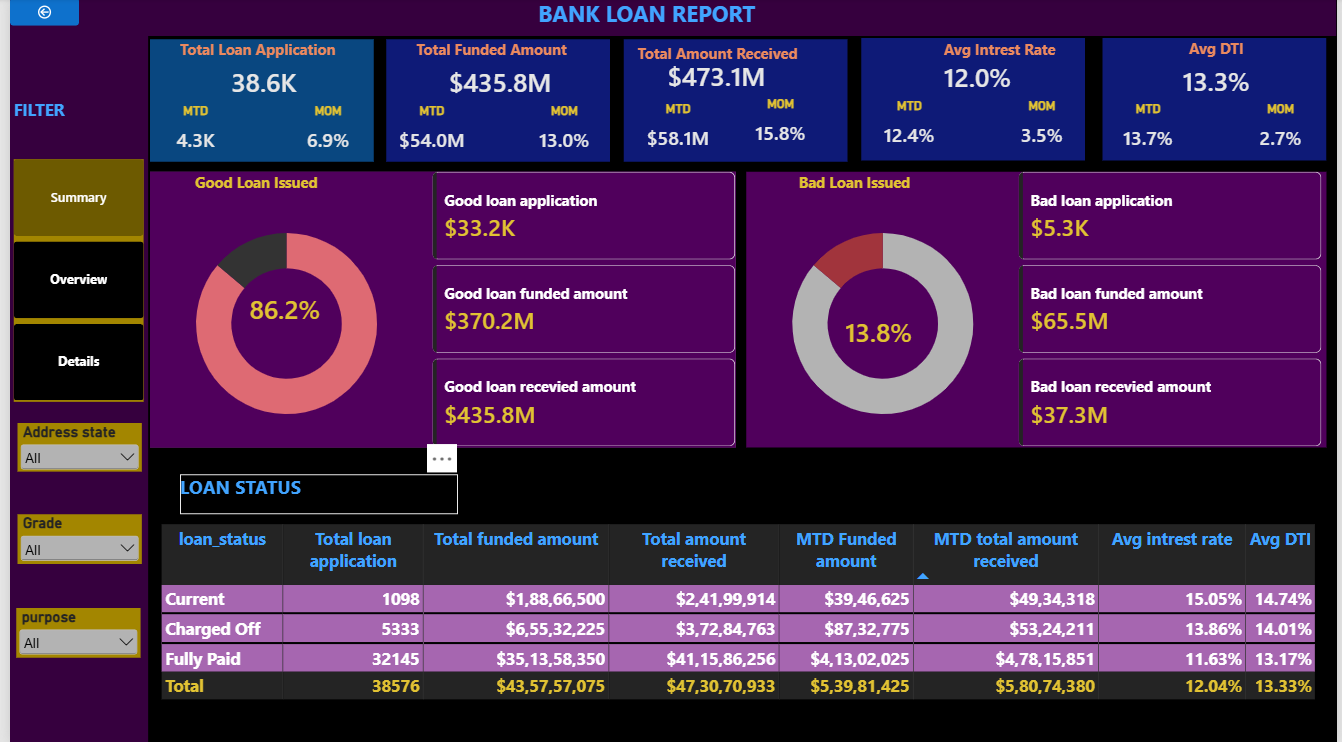

The dashboard page shown, as its layout file describes it:
{"tool":"powerbi","page":{"name":"Summary","canvas":[1920,1080],"ordinal":0},"visuals":[{"type":"shape","box":[1232,58.1,323.9,177.3],"z":0,"group":"g4"},{"type":"shape","box":[1581.3,58.1,323.9,177.3],"z":0,"group":"g5"},{"type":"shape","box":[202.7,59.7,323.9,177.3],"z":0,"group":"g1"},{"type":"shape","box":[544.7,59.7,323.9,177.3],"z":0,"group":"g2"},{"type":"shape","box":[888.5,60.1,323.9,177.3],"z":0,"group":"g3"},{"type":"shape","box":[202.4,251.6,847.6,399.2],"z":0},{"type":"card","fields":{"Values":["public financial_loan.Total amount received"]},"box":[900.7,81.6,242.5,63.3],"z":1000,"group":"g3"},{"type":"card","fields":{"Values":["public financial_loan.Avg intrest rate"]},"box":[1279.9,83.7,242.5,63.3],"z":1000,"group":"g4"},{"type":"card","fields":{"Values":["public financial_loan.Avg DTI"]},"box":[1624.7,88.9,242.5,63.3],"z":1000,"group":"g5"},{"type":"card","fields":{"Values":["public financial_loan.Total loan application"]},"box":[246.1,90.5,242.5,63.3],"z":1000,"group":"g1"},{"type":"card","fields":{"Values":["public financial_loan.Total funded amount"]},"box":[588.1,90.5,242.5,63.3],"z":1000,"group":"g2"},{"type":"card","fields":{"Values":["public financial_loan.Good loan %"]},"box":[319.7,420,155.1,62.4],"z":1000},{"type":"shape","box":[0,0,1920.1,55],"z":2000},{"type":"textbox","box":[1624.7,58.1,242.5,30.8],"z":2000,"group":"g5"},{"type":"textbox","box":[246.1,59.7,242.5,30.8],"z":2000,"group":"g1"},{"type":"textbox","box":[588.1,59.7,242.5,30.8],"z":2000,"group":"g2"},{"type":"textbox","box":[908.8,65.9,251.9,29.1],"z":2000,"group":"g3"},{"type":"shape","box":[0,54.3,200,1026],"z":3000},{"type":"card","title":"MTD","fields":{"Values":["public financial_loan.MTD avg int rate"]},"box":[1236.5,130.8,132.1,99.5],"z":3000,"group":"g4"},{"type":"card","title":"MTD","fields":{"Values":["public financial_loan.MTD total amount received"]},"box":[901.2,135.3,132.1,99.5],"z":3000,"group":"g3"},{"type":"card","title":"MTD","fields":{"Values":["public financial_loan.MTD avg DTI"]},"box":[1581.3,135.9,132.1,99.5],"z":3000,"group":"g5"},{"type":"card","title":"MTD","fields":{"Values":["public financial_loan.MTD loan application"]},"box":[202.7,137.5,132.1,99.5],"z":3000,"group":"g1"},{"type":"card","title":"MTD","fields":{"Values":["public financial_loan.MTD Funded amount"]},"box":[544.7,137.5,132.1,99.5],"z":3000,"group":"g2"},{"type":"textbox","box":[419.8,0,1004.4,54.3],"z":4000},{"type":"card","title":"MOM","fields":{"Values":["public financial_loan.MOM total amount received"]},"box":[1049.1,128.6,132.1,99.5],"z":4000,"group":"g3"},{"type":"card","title":"MOM","fields":{"Values":["public financial_loan.MOM avg int rate"]},"box":[1428.3,130.8,132.1,99.5],"z":4000,"group":"g4"},{"type":"card","title":"MOM","fields":{"Values":["public financial_loan.MOM avg DTI"]},"box":[1773.1,135.9,132.1,99.5],"z":4000,"group":"g5"},{"type":"card","title":"MOM","fields":{"Values":["public financial_loan.MOM Loan Application"]},"box":[394.5,137.5,132.1,99.5],"z":4000,"group":"g1"},{"type":"card","title":"MOM","fields":{"Values":["public financial_loan.MOM total funded amount"]},"box":[736.5,137.5,132.1,99.5],"z":4000,"group":"g2"},{"type":"group","id":"g1","title":"Group 1","box":[202.7,59.7,323.9,177.3],"z":5000},{"type":"group","id":"g2","title":"Group 1","box":[544.7,59.7,323.9,177.3],"z":6000},{"type":"group","id":"g3","title":"Group 1","box":[888.5,60.1,323.6,176.3],"z":7000},{"type":"group","id":"g4","title":"Group 1","box":[1232,58.1,329.4,176.3],"z":8000},{"type":"textbox","box":[1352.6,60.1,219,31],"z":9000},{"type":"group","id":"g5","title":"Group 1","box":[1581.3,58.1,323.6,176.3],"z":10000},{"type":"shape","box":[1065.2,251.6,840,399.2],"z":11000},{"type":"donutChart","fields":{"Category":["public financial_loan.Good vs Bad loan"],"Y":["public financial_loan.Total loan application"]},"box":[202.4,293.3,395.4,357.6],"z":12000},{"type":"textbox","box":[268.7,251.6,257.3,41.6],"z":13000},{"type":"cardVisual","fields":{"Data":["public financial_loan.Good loan application","public financial_loan.Good loan funded amount","public financial_loan.Good loan recevied amount"]},"box":[611.1,251.6,438.9,399.2],"z":14000},{"type":"donutChart","fields":{"Category":["public financial_loan.Good vs Bad loan"],"Y":["public financial_loan.Total loan application"]},"box":[1065.2,293.3,395.4,357.6],"z":15000},{"type":"card","fields":{"Values":["public financial_loan.Bad loan %"]},"box":[1180.6,452.2,155.1,62.4],"z":16000},{"type":"textbox","box":[1142.8,251.6,210,41.6],"z":17000},{"type":"cardVisual","fields":{"Data":["public financial_loan.Bad loan application","public financial_loan.Bad loan funded amount","public financial_loan.Bad loan recevied amount"]},"box":[1460.6,251.6,438.9,399.2],"z":18000},{"type":"tableEx","fields":{"Values":["public financial_loan.loan_status","public financial_loan.Total loan application","public financial_loan.Total funded amount","public financial_loan.Total amount received","public financial_loan.MTD Funded amount","public financial_loan.MTD total amount received","public financial_loan.Avg intrest rate","public financial_loan.Avg DTI"]},"box":[202.2,747.7,1703.3,306.1],"z":19000},{"type":"actionButton","box":[0,0,100,40],"z":20000},{"type":"textbox","box":[246.8,690.2,400.8,57.5],"z":21000},{"type":"slicer","fields":{"Values":["public financial_loan.address_state"]},"box":[11.1,616,180,70.5],"z":22000},{"type":"slicer","fields":{"Values":["public financial_loan.grade"]},"box":[11.1,747.7,180,72.4],"z":23000},{"type":"slicer","fields":{"Values":["public financial_loan.purpose"]},"box":[9.3,883.2,180,72.4],"z":24000},{"type":"pageNavigator","box":[5.4,233.4,188.2,351.1],"z":24001},{"type":"textbox","box":[5.4,144.8,182.8,56.1],"z":24002}]}

Visuals, with their boxes on the page's 1920x1080 design canvas (x1, y1, x2, y2). These are canvas units, not pixel positions in the 1342x742 screenshot, which may show the page scaled, cropped or inside an application window:
shape: [left=1232, top=58, right=1556, bottom=235]
shape: [left=1581, top=58, right=1905, bottom=235]
shape: [left=203, top=60, right=527, bottom=237]
shape: [left=545, top=60, right=869, bottom=237]
shape: [left=888, top=60, right=1212, bottom=237]
shape: [left=202, top=252, right=1050, bottom=651]
card - public financial_loan.Total amount received: [left=901, top=82, right=1143, bottom=145]
card - public financial_loan.Avg intrest rate: [left=1280, top=84, right=1522, bottom=147]
card - public financial_loan.Avg DTI: [left=1625, top=89, right=1867, bottom=152]
card - public financial_loan.Total loan application: [left=246, top=90, right=489, bottom=154]
card - public financial_loan.Total funded amount: [left=588, top=90, right=831, bottom=154]
card - public financial_loan.Good loan %: [left=320, top=420, right=475, bottom=482]
shape: [left=0, top=0, right=1920, bottom=55]
textbox: [left=1625, top=58, right=1867, bottom=89]
textbox: [left=246, top=60, right=489, bottom=90]
textbox: [left=588, top=60, right=831, bottom=90]
textbox: [left=909, top=66, right=1161, bottom=95]
shape: [left=0, top=54, right=200, bottom=1080]
"MTD" card: [left=1236, top=131, right=1369, bottom=230]
"MTD" card: [left=901, top=135, right=1033, bottom=235]
"MTD" card: [left=1581, top=136, right=1713, bottom=235]
"MTD" card: [left=203, top=138, right=335, bottom=237]
"MTD" card: [left=545, top=138, right=677, bottom=237]
textbox: [left=420, top=0, right=1424, bottom=54]
"MOM" card: [left=1049, top=129, right=1181, bottom=228]
"MOM" card: [left=1428, top=131, right=1560, bottom=230]
"MOM" card: [left=1773, top=136, right=1905, bottom=235]
"MOM" card: [left=394, top=138, right=527, bottom=237]
"MOM" card: [left=736, top=138, right=869, bottom=237]
"Group 1" group: [left=203, top=60, right=527, bottom=237]
"Group 1" group: [left=545, top=60, right=869, bottom=237]
"Group 1" group: [left=888, top=60, right=1212, bottom=236]
"Group 1" group: [left=1232, top=58, right=1561, bottom=234]
textbox: [left=1353, top=60, right=1572, bottom=91]
"Group 1" group: [left=1581, top=58, right=1905, bottom=234]
shape: [left=1065, top=252, right=1905, bottom=651]
donutChart - public financial_loan.Good vs Bad loan x public financial_loan.Total loan application: [left=202, top=293, right=598, bottom=651]
textbox: [left=269, top=252, right=526, bottom=293]
cardVisual - public financial_loan.Good loan application x public financial_loan.Good loan funded amount: [left=611, top=252, right=1050, bottom=651]
donutChart - public financial_loan.Good vs Bad loan x public financial_loan.Total loan application: [left=1065, top=293, right=1461, bottom=651]
card - public financial_loan.Bad loan %: [left=1181, top=452, right=1336, bottom=515]
textbox: [left=1143, top=252, right=1353, bottom=293]
cardVisual - public financial_loan.Bad loan application x public financial_loan.Bad loan funded amount: [left=1461, top=252, right=1900, bottom=651]
tableEx - public financial_loan.loan_status x public financial_loan.Total loan application: [left=202, top=748, right=1906, bottom=1054]
actionButton: [left=0, top=0, right=100, bottom=40]
textbox: [left=247, top=690, right=648, bottom=748]
slicer - public financial_loan.address_state: [left=11, top=616, right=191, bottom=686]
slicer - public financial_loan.grade: [left=11, top=748, right=191, bottom=820]
slicer - public financial_loan.purpose: [left=9, top=883, right=189, bottom=956]
pageNavigator: [left=5, top=233, right=194, bottom=584]
textbox: [left=5, top=145, right=188, bottom=201]
